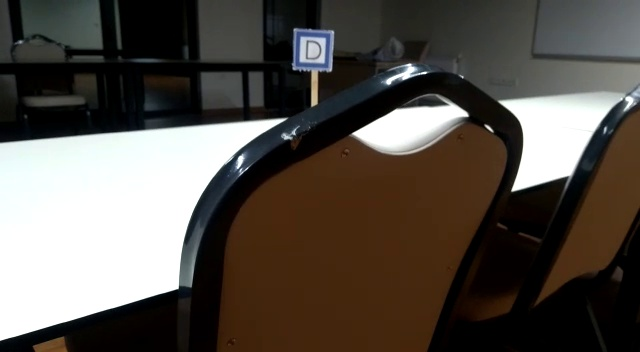durak: (291, 30, 334, 69)
